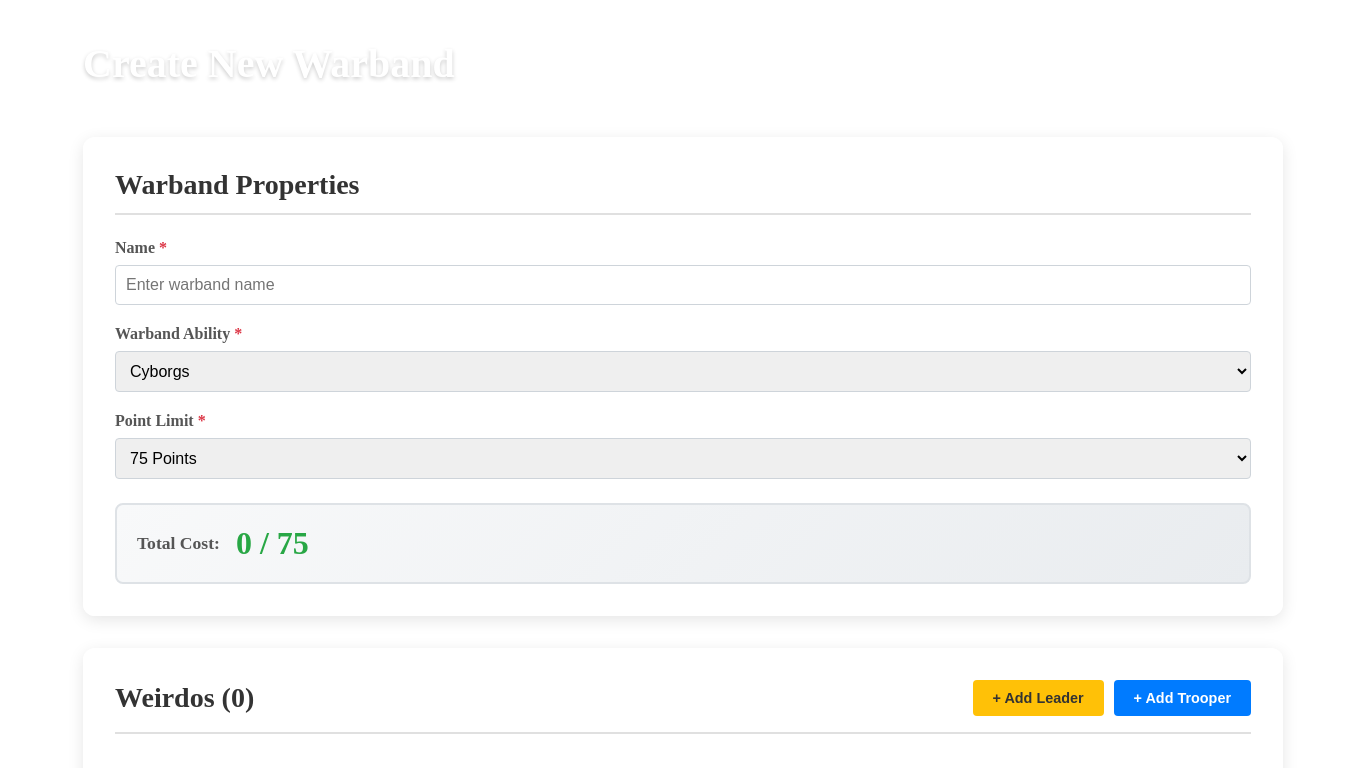
Test case: WarbandEditor Component › Adding weirdos › should add leader when Add Leader button is clicked
Expected: the heading "Create New Warband" is shown, [83, 40, 455, 87]
Click the button "+ Add Leader": (1038, 698) [972, 680, 1104, 716]
(page scrolled)
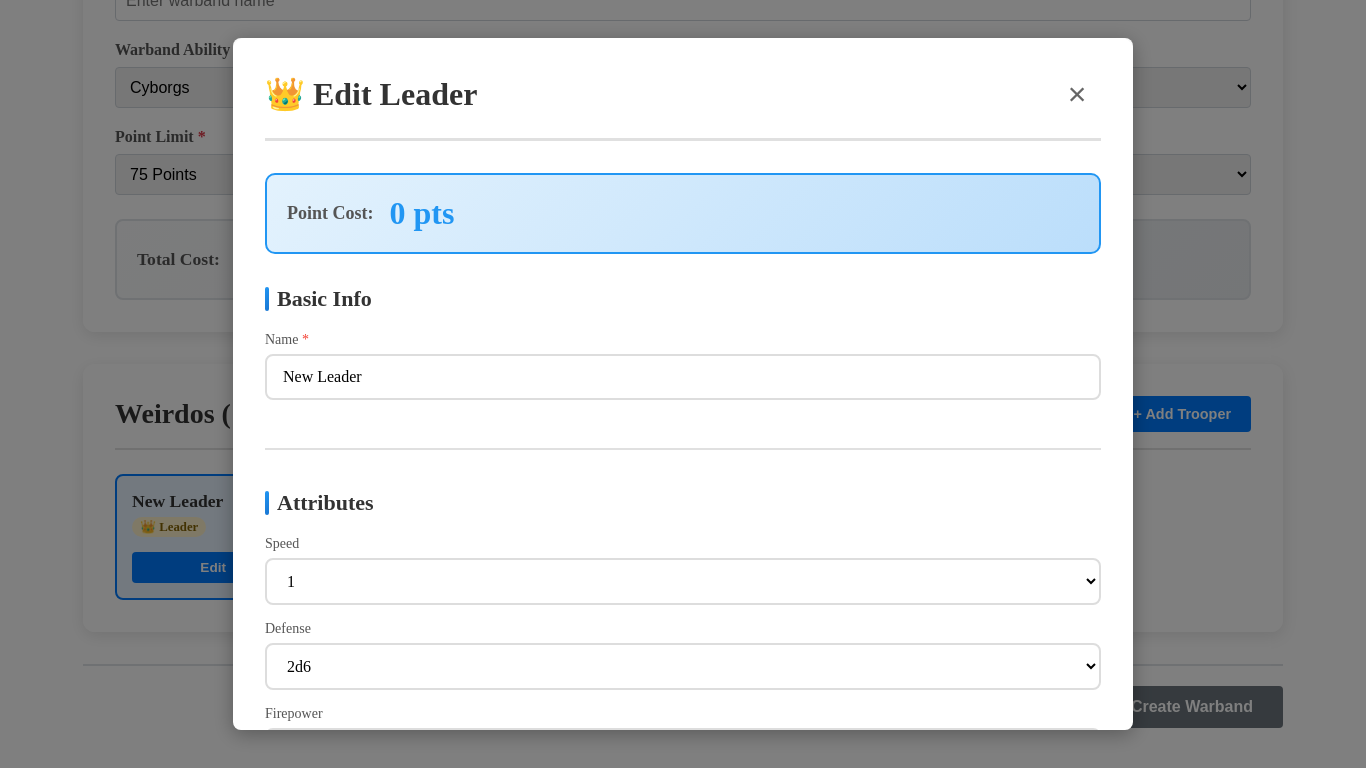
Result: the heading "New Leader" is shown at [132, 491, 223, 512]
